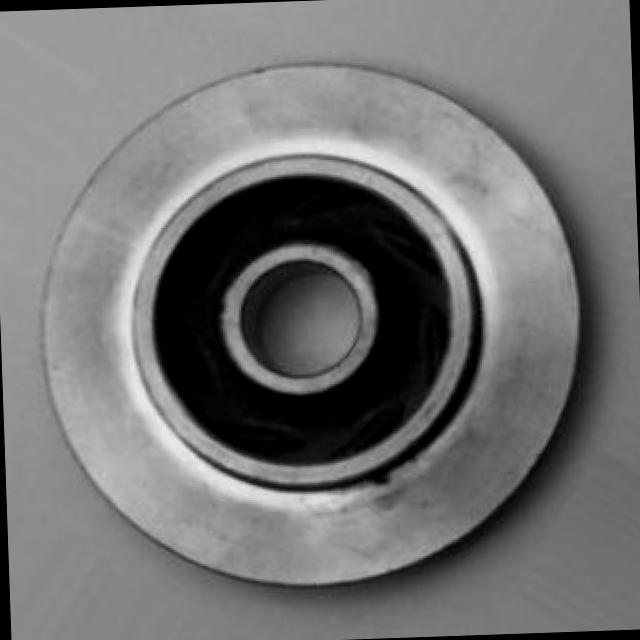Defect: (370, 467, 395, 488)
